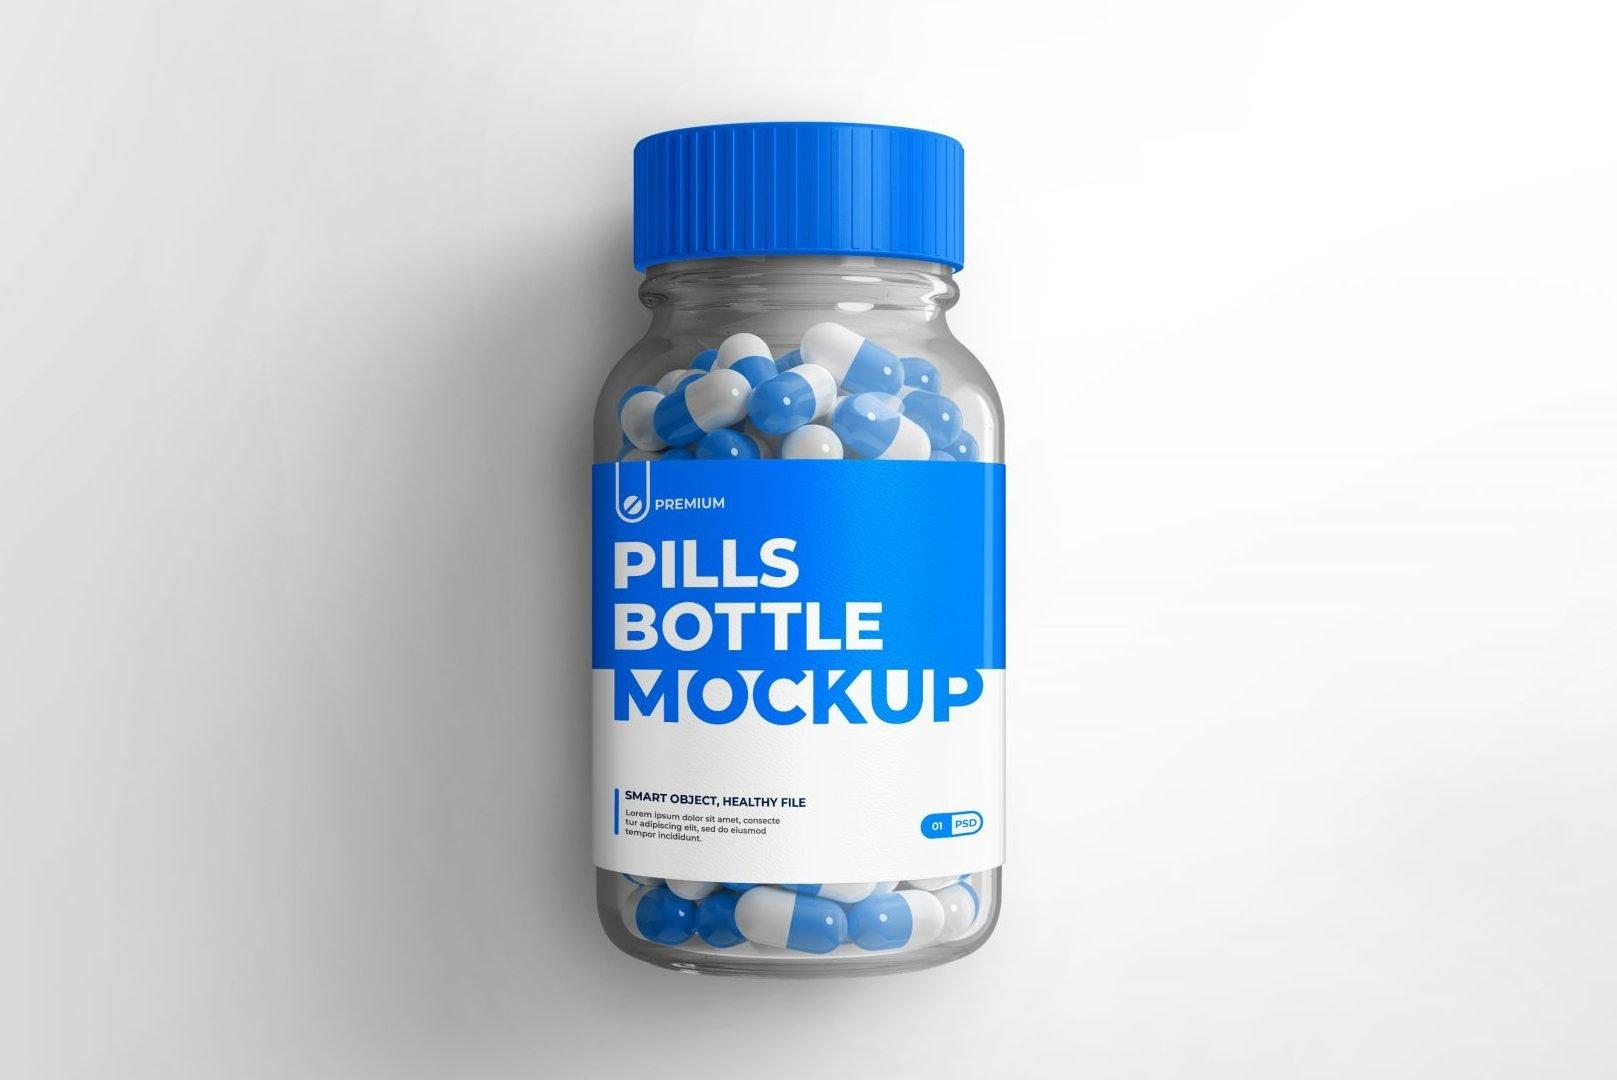jar: (590, 122, 1005, 982)
